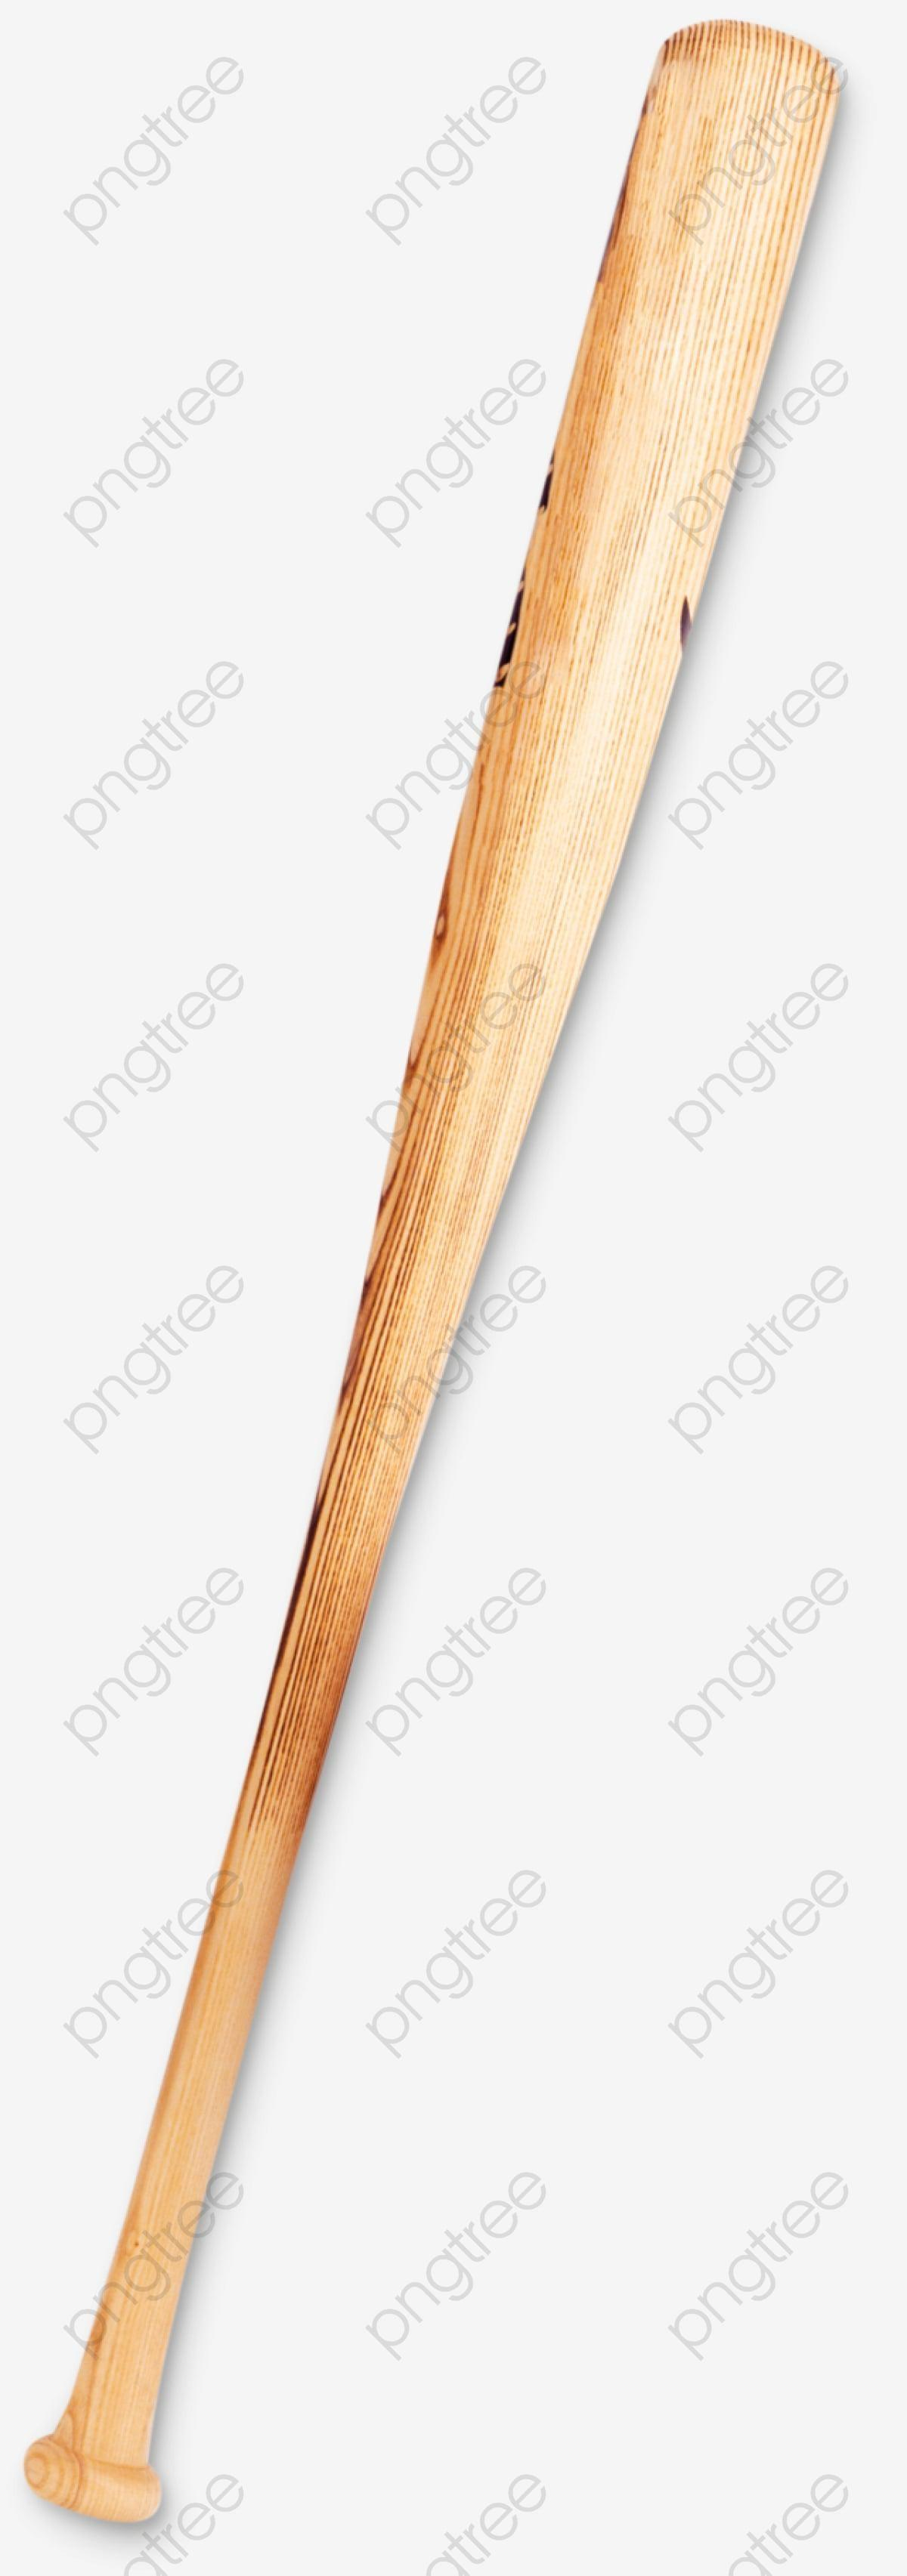Baseball-Bat: (0, 0, 907, 2477)
